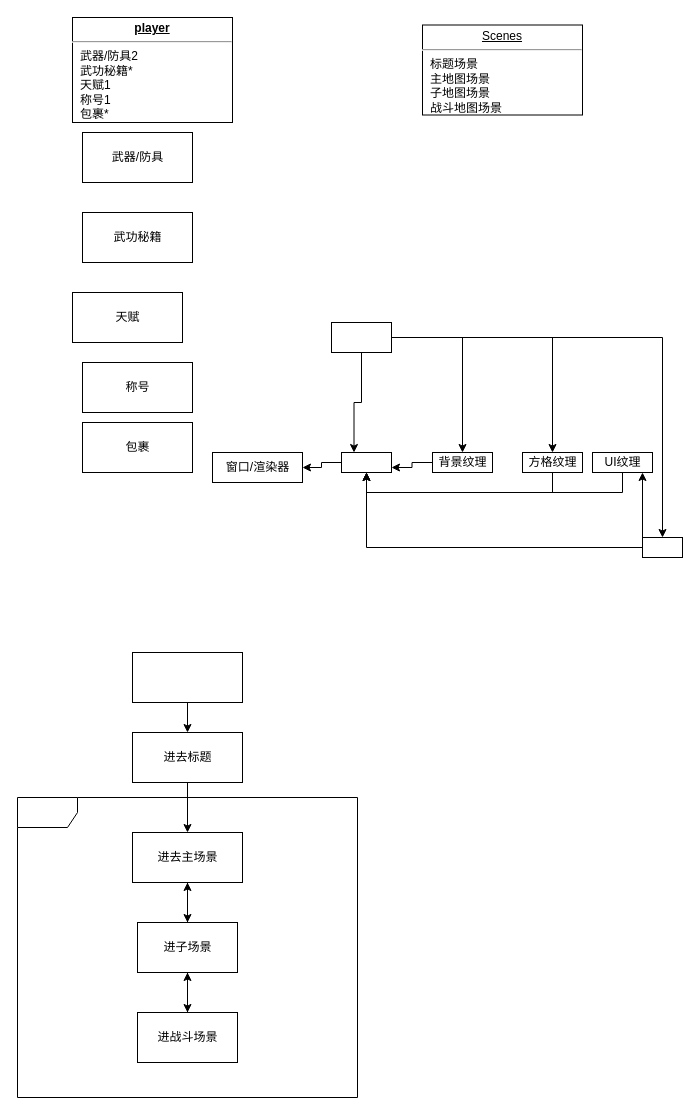
This 700x1115 diagram has some shape labels left out. The shapes that lost their labels are listed below. From the top down, each one's centre as x and y in pixels, then its label:
(x=361, y=337): 场景
(x=366, y=462): 视频
(x=662, y=547): UI
(x=187, y=677): 初始化
(x=187, y=947): loop
